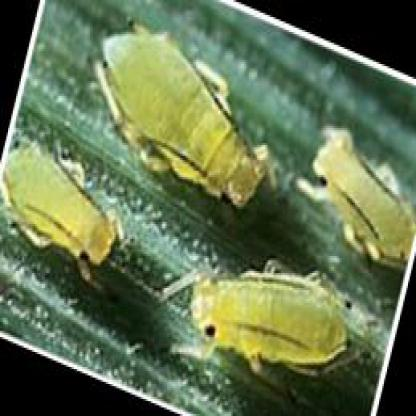schizaphis graminum: (90, 22, 269, 210), (160, 255, 349, 366), (299, 130, 414, 266), (1, 144, 120, 263)
